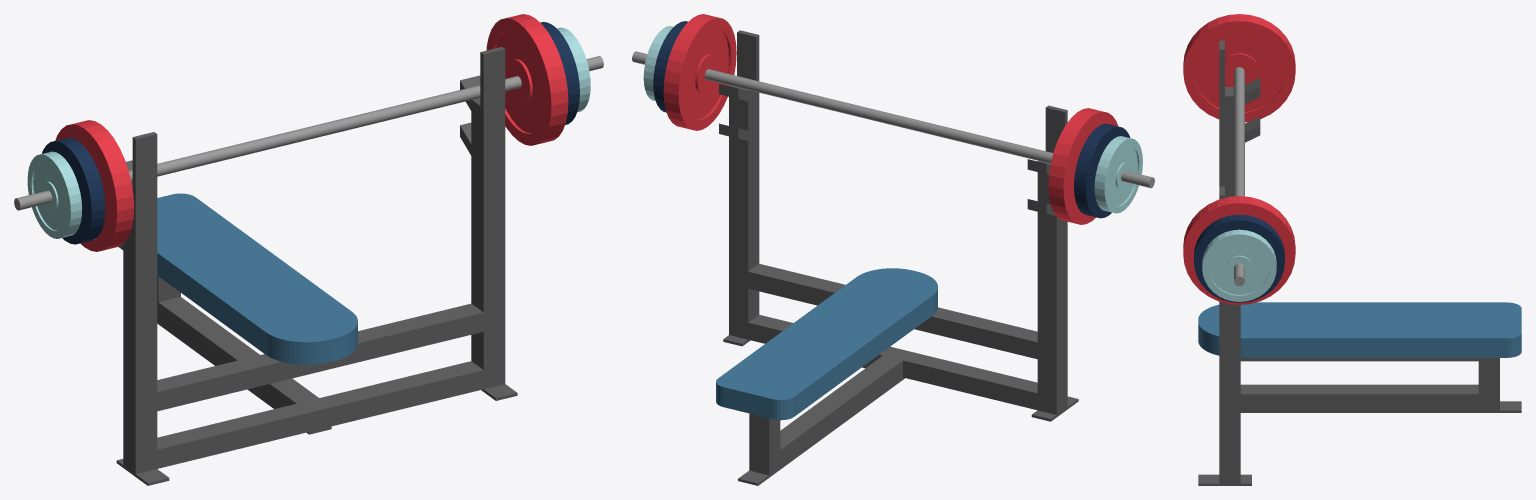
File: Bench Press Ver1 Lv1.fbx
3 views of the same model, side by side, from view 1: azimuth 30°, elevation 25°; view 2: azimuth 150°, elevation 25°; view 3: azimuth 270°, elevation 25° (orthographic). The views are drawn at different scales.
Visible parts, largest first — view 1: Bench Press Ver1 Lv1, Bench Press 1 Weight 3.001, Bench Press 1 Bar, Bench Press 1 Weight 3, Bench Press 1 Weight 1, Bench Press 1 Weight 2, Bench Press 1 Weight 2.001, Bench Press 1 Weight 1.001; view 2: Bench Press Ver1 Lv1, Bench Press 1 Weight 3.001, Bench Press 1 Bar, Bench Press 1 Weight 3, Bench Press 1 Weight 1, Bench Press 1 Weight 2, Bench Press 1 Weight 2.001, Bench Press 1 Weight 1.001; view 3: Bench Press Ver1 Lv1, Bench Press 1 Weight 3, Bench Press 1 Weight 1.001, Bench Press 1 Weight 3.001, Bench Press 1 Weight 2.001, Bench Press 1 Bar.
Boxes of the visible parts, x1,y1,x2,y2 form: Bench Press Ver1 Lv1: (116,47,517,485); Bench Press 1 Weight 3.001: (486,14,568,145); Bench Press 1 Bar: (14,56,603,210); Bench Press 1 Weight 3: (55,120,134,251); Bench Press 1 Weight 1: (27,151,82,238); Bench Press 1 Weight 2: (42,137,105,244); Bench Press 1 Weight 2.001: (540,22,579,124); Bench Press 1 Weight 1.001: (557,27,590,112); Bench Press Ver1 Lv1: (716,30,1078,485); Bench Press 1 Weight 3.001: (663,14,736,130); Bench Press 1 Bar: (632,51,1154,188); Bench Press 1 Weight 3: (1048,108,1117,224); Bench Press 1 Weight 1: (1094,136,1142,213); Bench Press 1 Weight 2: (1074,123,1130,218); Bench Press 1 Weight 2.001: (653,21,687,112); Bench Press 1 Weight 1.001: (643,26,673,100); Bench Press Ver1 Lv1: (1198,40,1521,485); Bench Press 1 Weight 3: (1183,14,1295,122); Bench Press 1 Weight 1.001: (1202,229,1276,301); Bench Press 1 Weight 3.001: (1183,196,1295,304); Bench Press 1 Weight 2.001: (1194,214,1284,302); Bench Press 1 Bar: (1234,67,1244,286).
Bounding box in the file's own units: 537 × 307 × 314.
